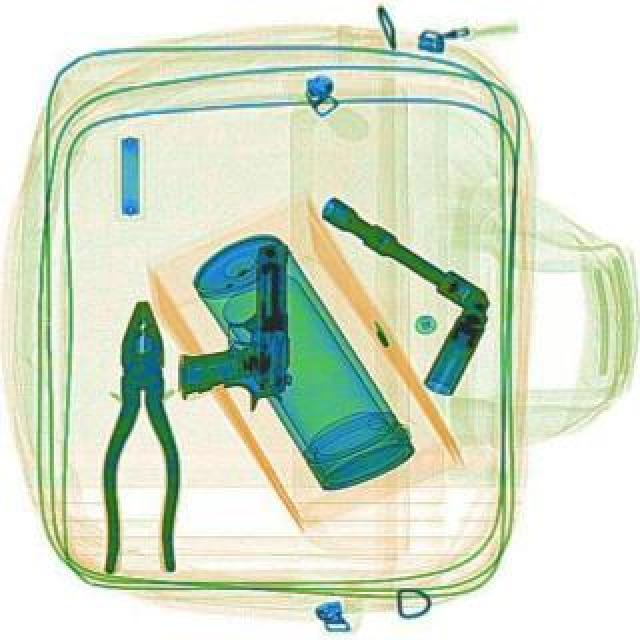gun: (176, 244, 290, 414)
wrench: (100, 300, 180, 572)
